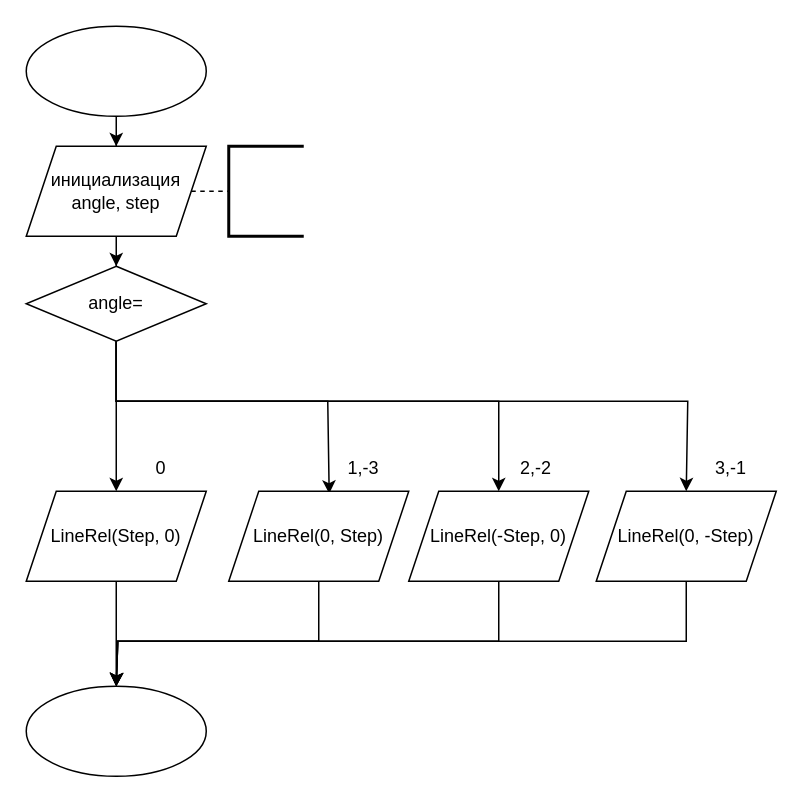
This 803x803 diagram has some shape labels left out. The shapes that lost their labels are listed below. From the top down, each one's centre as x and y in pixels, then its label:
At [115,70]: "начало draw".
At [265,190]: "по ссылке".
At [115,730]: "конец draw".
